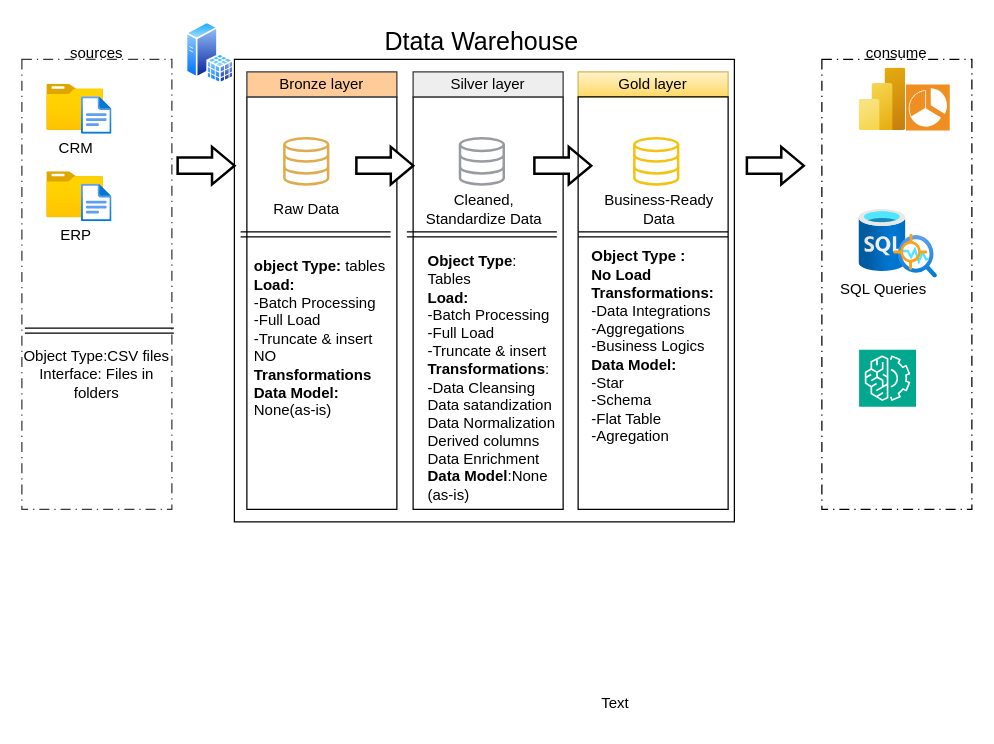
This 994x744 diagram has some shape labels left out. The box of each missing label's shape, as (x1, y1, x2, y2) in pixels:
Bi & Reporting: (858, 67, 905, 130)
Machine Learning: (858, 348, 916, 407)
SQL Server: (186, 21, 234, 84)
